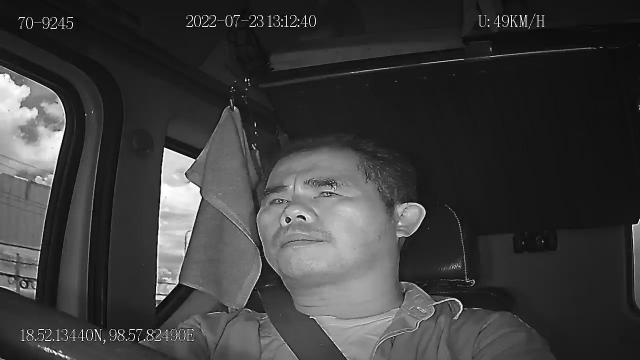SafeDriving: (305, 179, 347, 202), (262, 190, 294, 210)
Seatbelt: (255, 280, 352, 360)
